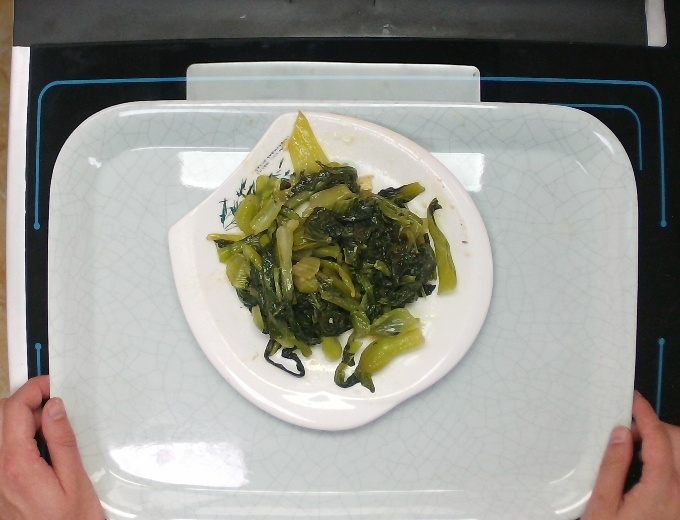JYsf-Mian_Pan: (148, 108, 498, 436)
